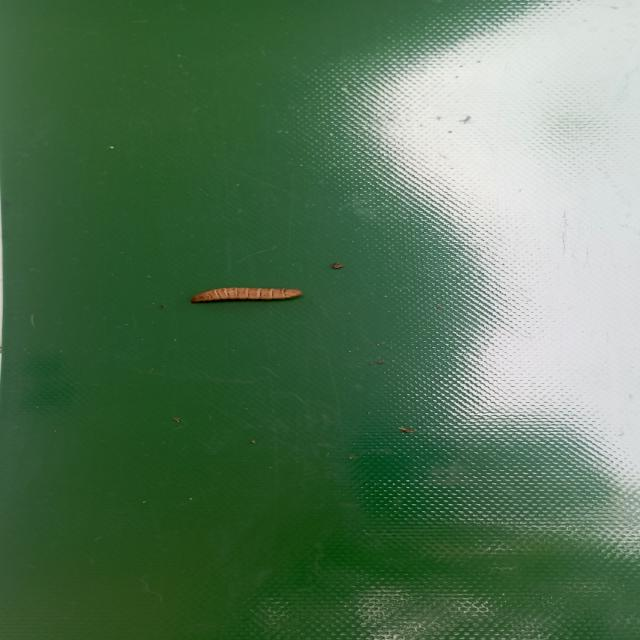Maggot: (190, 288, 302, 306)
